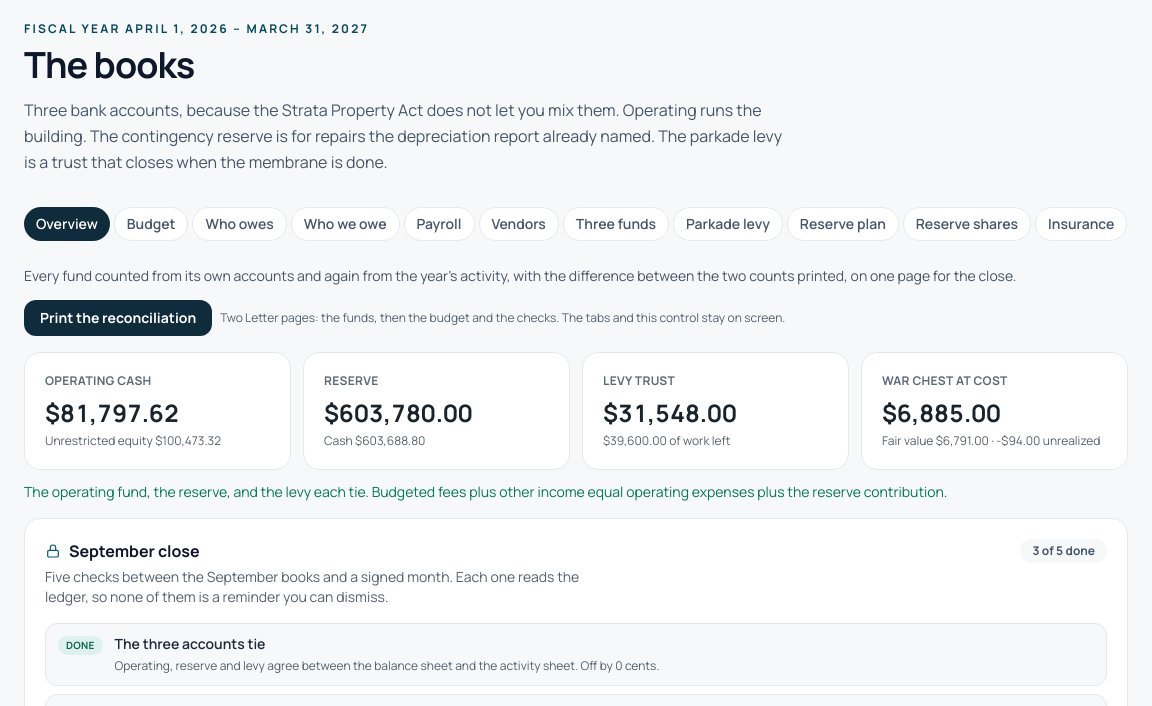
Test: the receivables ladder on paper › prints the past-due ladder as its own sheet
The image size is (1152, 706).
Click the button "Who owes".
click(240, 224)  # box [192, 207, 287, 241]
(page scrolled)
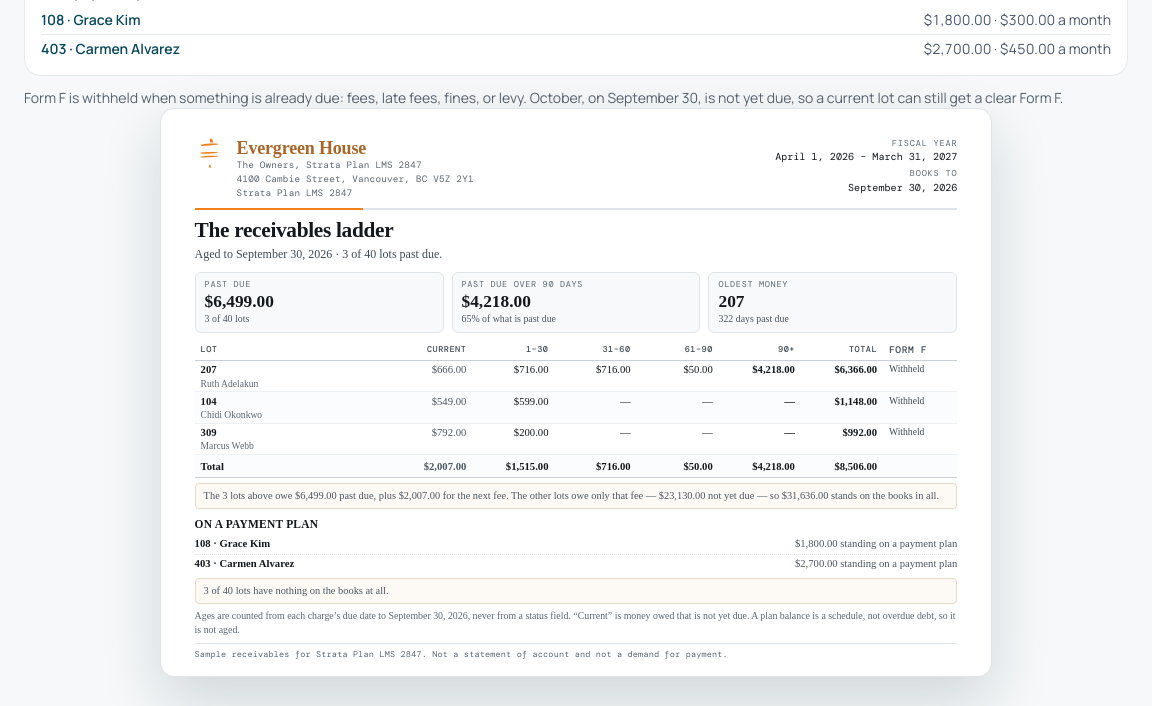
Expected: the element with class "arrears-doc" is shown, [160, 108, 992, 677]
Expected: the element with class "arrears-doc" shows "The receivables ladder", [195, 218, 393, 242]
Expected: the element with class "arrears-doc" shows "207", [718, 292, 744, 311]
